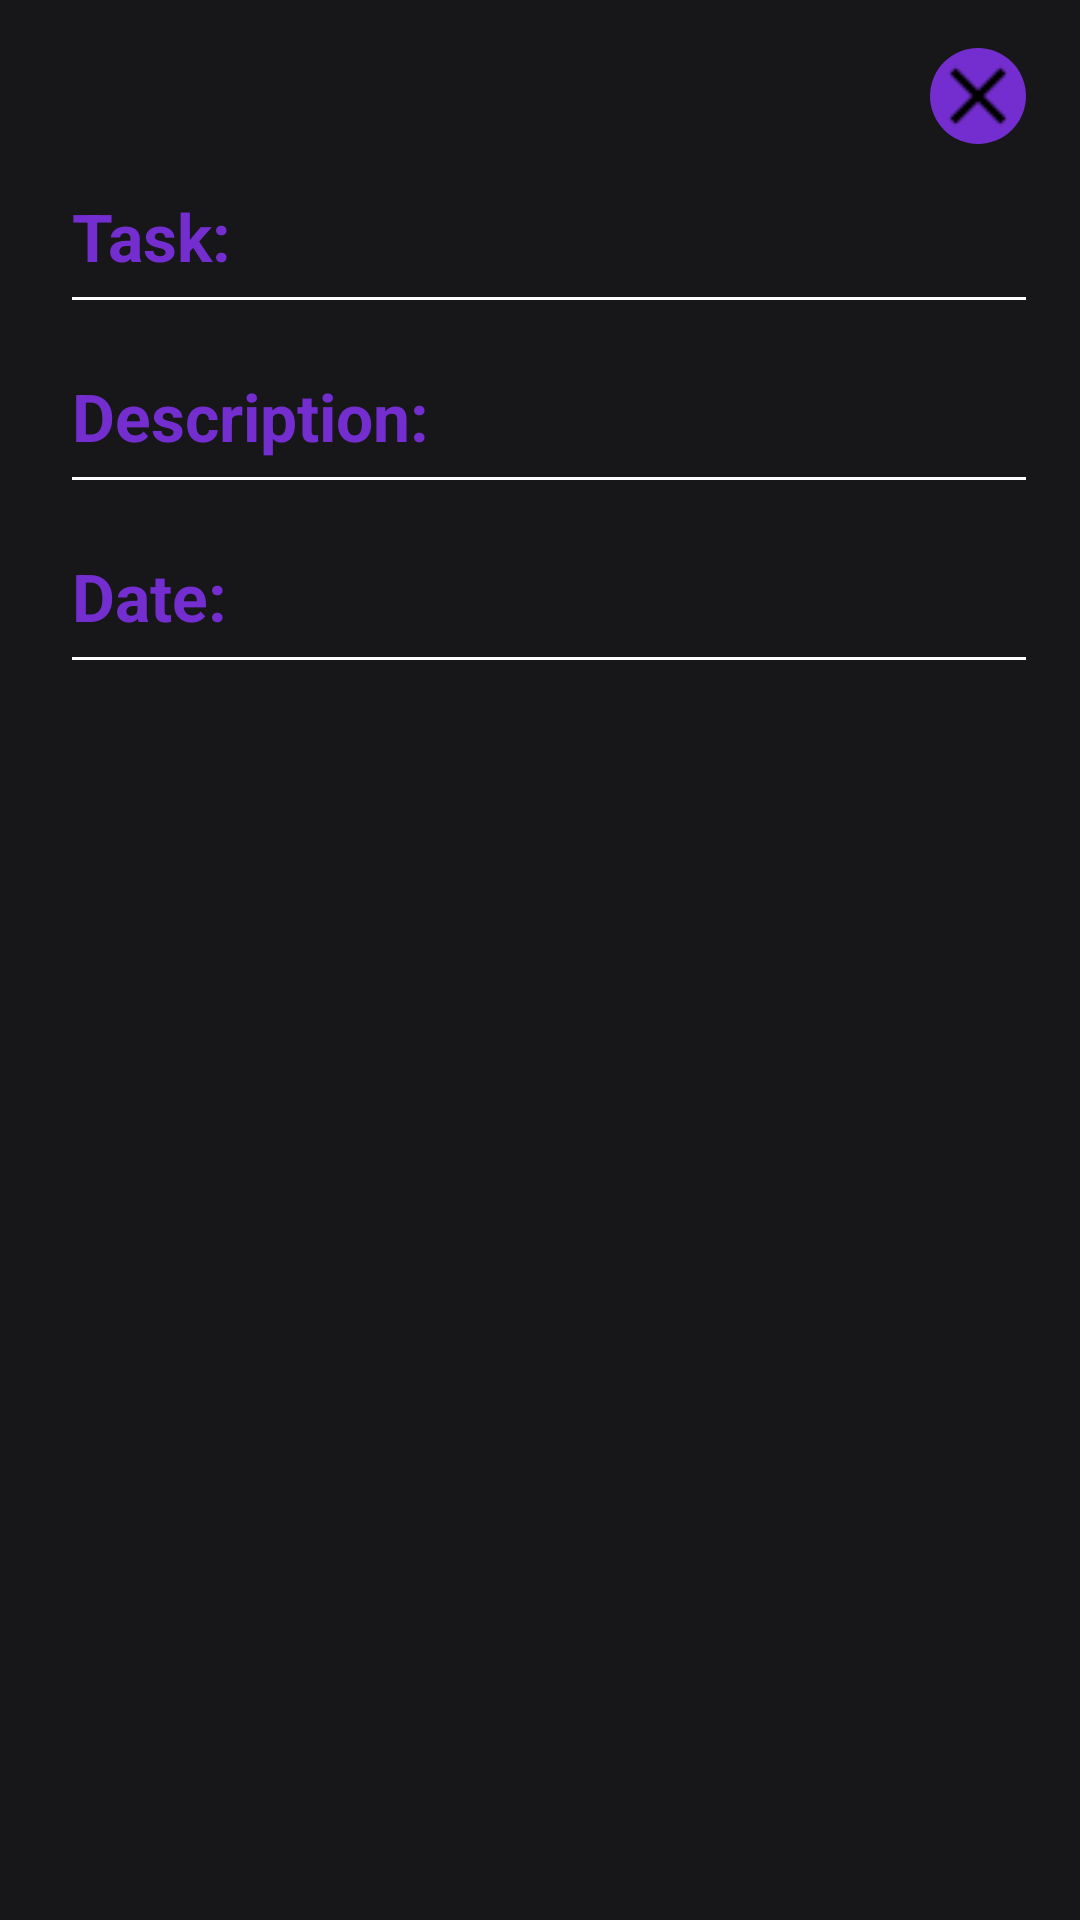

Icons on this 1080px×1920px Android screen, each with the point to tap as [x,y]:
close: [978,96]
